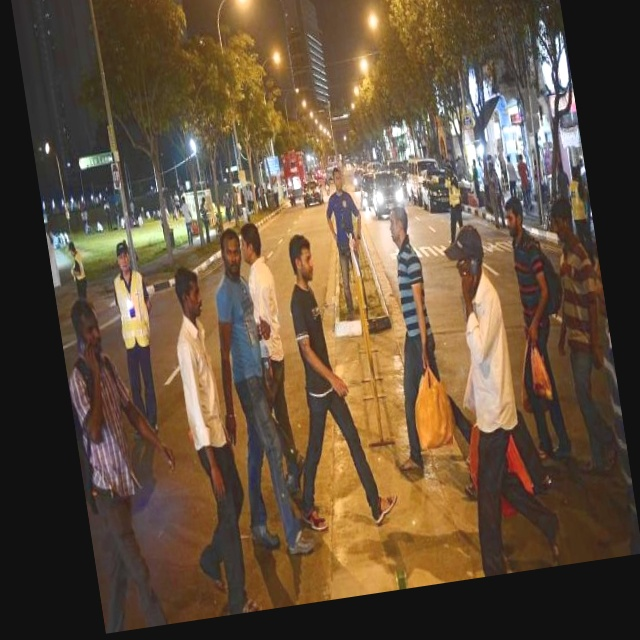Con_Chaleco: (114, 271, 152, 348)
Sin_Casco_Mascarrilla: (173, 266, 206, 323), (286, 231, 317, 288), (217, 225, 246, 280), (385, 203, 413, 246)
Sin_Chaleco: (288, 287, 335, 395), (393, 248, 434, 340)
